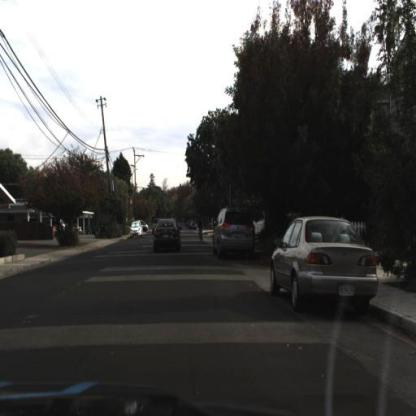biker: (196, 210, 206, 244), (196, 211, 205, 246)
car: (264, 209, 386, 335), (209, 205, 260, 262), (149, 215, 182, 261), (129, 221, 146, 242)
